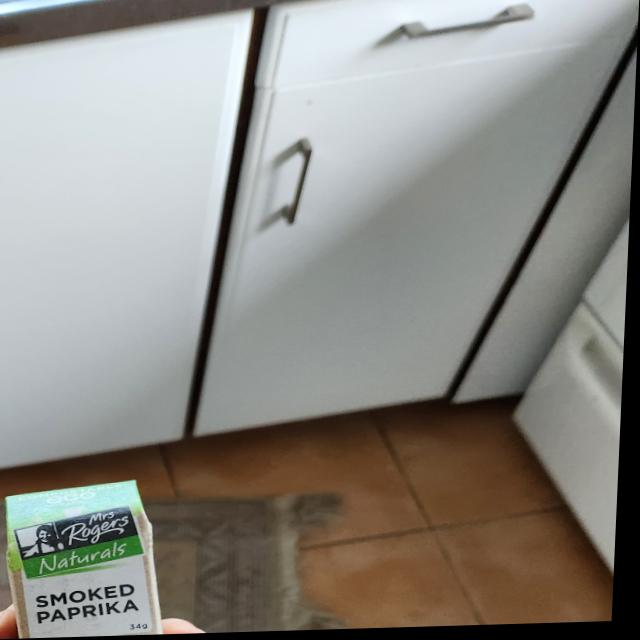paprika: (1, 480, 197, 639)
